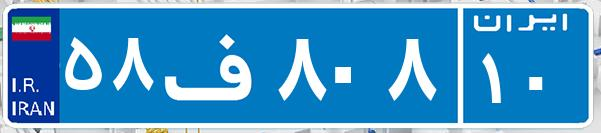0: (330, 28, 385, 110), (525, 38, 570, 115)
1: (475, 38, 525, 113)
5: (57, 26, 110, 107)
8: (385, 28, 445, 110), (273, 28, 330, 110), (110, 28, 158, 105)
ف: (158, 15, 273, 115)
